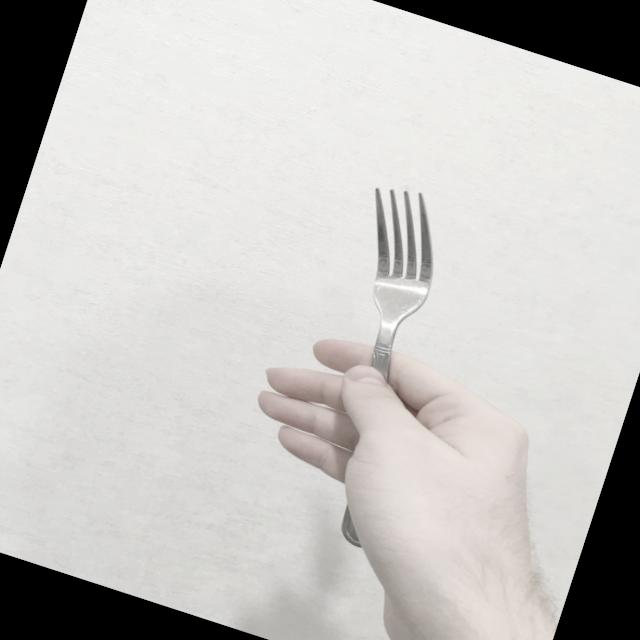fork: (265, 177, 472, 546)
